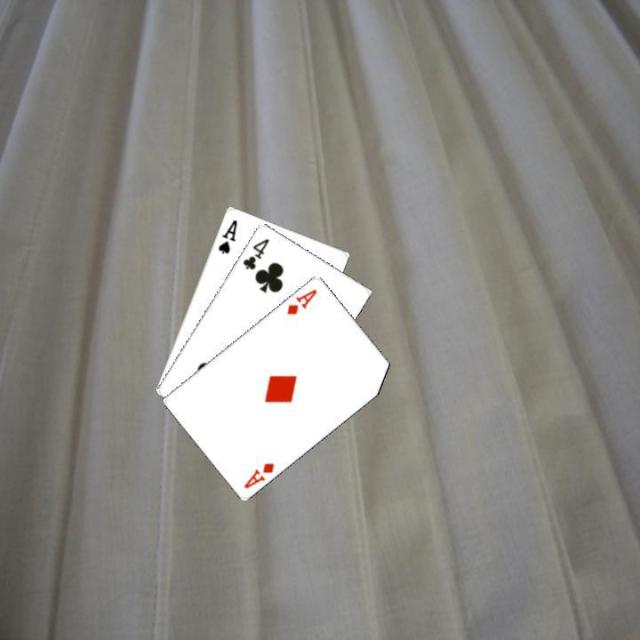4C: (239, 235, 271, 271)
AD: (283, 284, 319, 316), (240, 458, 276, 489)
AS: (214, 215, 239, 255)
